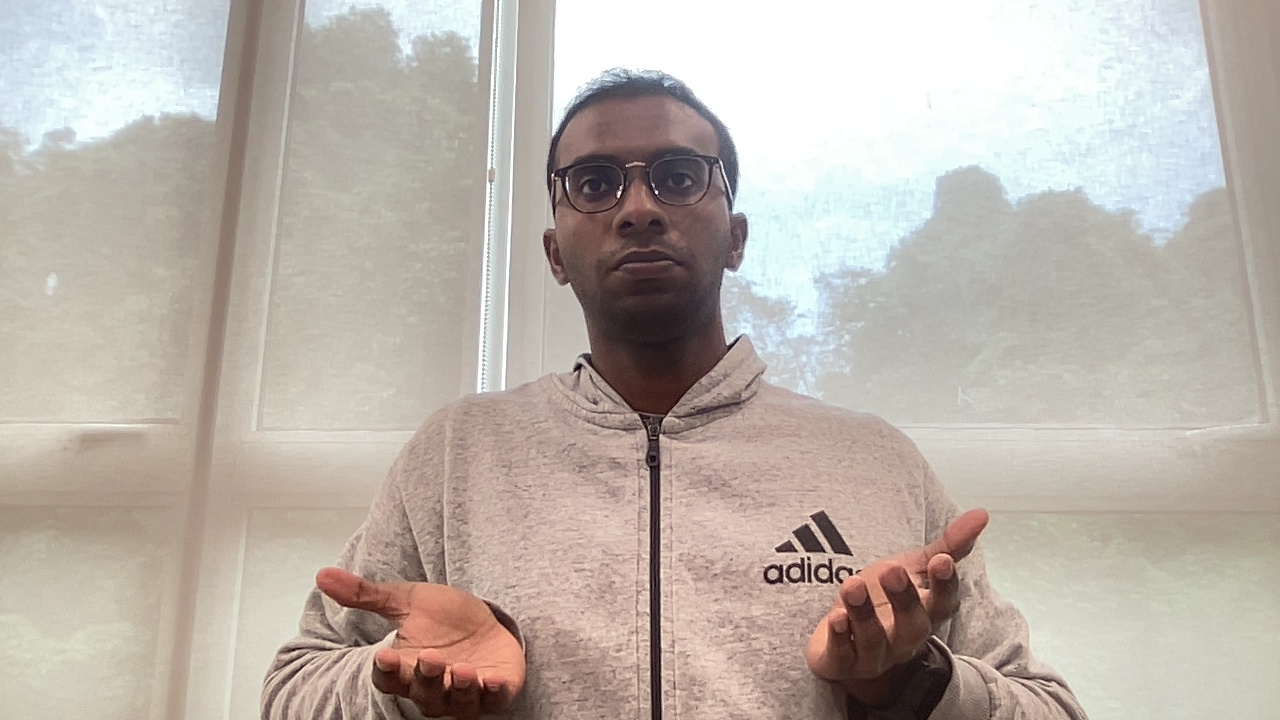give: (310, 506, 996, 712)
